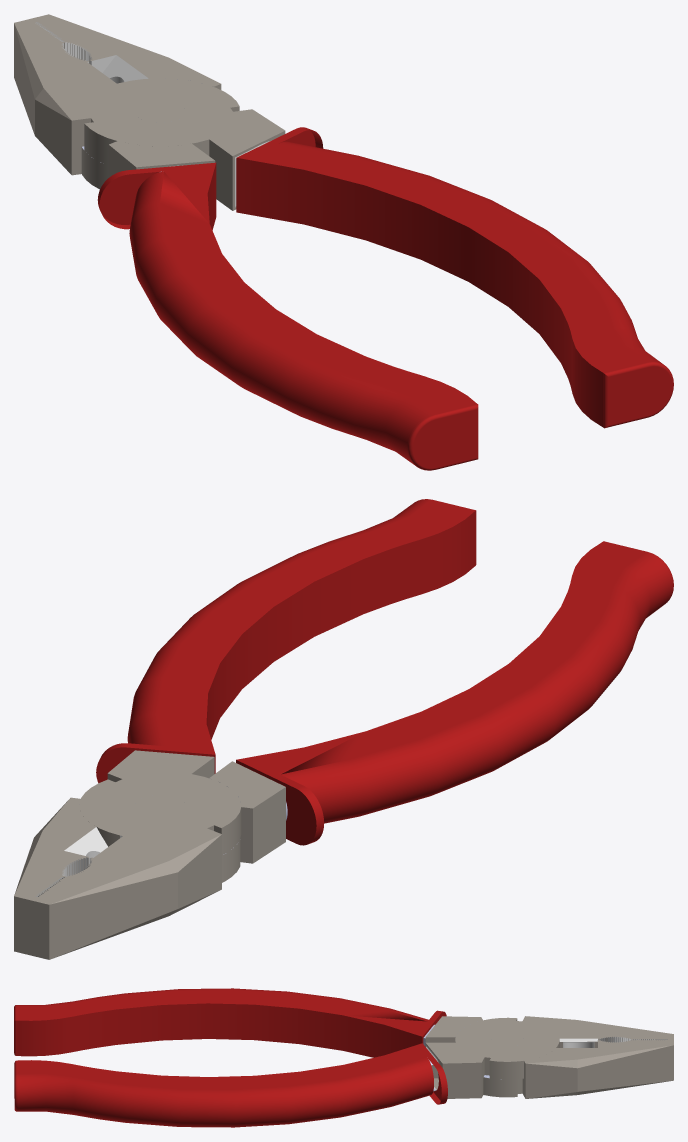
3 renders of one model, top to bottom at view 1: azimuth 30°, elevation 25°; view 2: azimuth 150°, elevation 25°; view 3: azimuth 270°, elevation 25°, orthographic. The views are drawn at different scales.
Visible parts, largest first — view 1: Hand_2-3.001, Hand-3.001, Hand_1.001, Hand.001, Hand-1.001, Pin-1.001; view 2: Hand-3.001, Hand_2-3.001, Hand_1.001, Hand.001, Hand-1.001, Pin-1.001; view 3: Hand_2-3.001, Hand-3.001, Hand.001, Hand_1.001, Hand_2-1.001, Pin-1.001.
Boxes of the visible parts, x1,y1,x2,y2 form: Hand_2-3.001: [236, 127, 673, 428]; Hand-3.001: [97, 162, 478, 470]; Hand_1.001: [14, 18, 285, 210]; Hand.001: [31, 14, 221, 189]; Hand-1.001: [36, 22, 182, 166]; Pin-1.001: [135, 101, 185, 122]; Hand-3.001: [236, 541, 673, 845]; Hand_2-3.001: [96, 499, 476, 783]; Hand_1.001: [31, 750, 241, 959]; Hand.001: [14, 761, 285, 955]; Hand-1.001: [36, 827, 107, 896]; Pin-1.001: [135, 795, 185, 816]; Hand_2-3.001: [14, 1043, 447, 1127]; Hand-3.001: [14, 988, 446, 1057]; Hand.001: [425, 1016, 673, 1098]; Hand_1.001: [425, 1016, 673, 1098]; Hand_2-1.001: [426, 1036, 667, 1089]; Pin-1.001: [491, 1033, 523, 1046].
Bounding box in the file's own units: 0.4212 × 0.0601 × 1.01.
